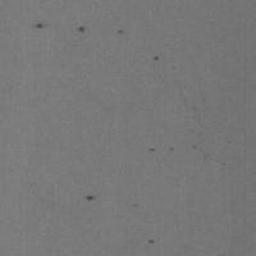Inclusion: (183, 97, 201, 124), (201, 148, 214, 166), (36, 20, 44, 31), (152, 55, 160, 63), (78, 26, 86, 33), (169, 145, 177, 152), (148, 239, 156, 246), (192, 142, 198, 151), (87, 195, 96, 201)
